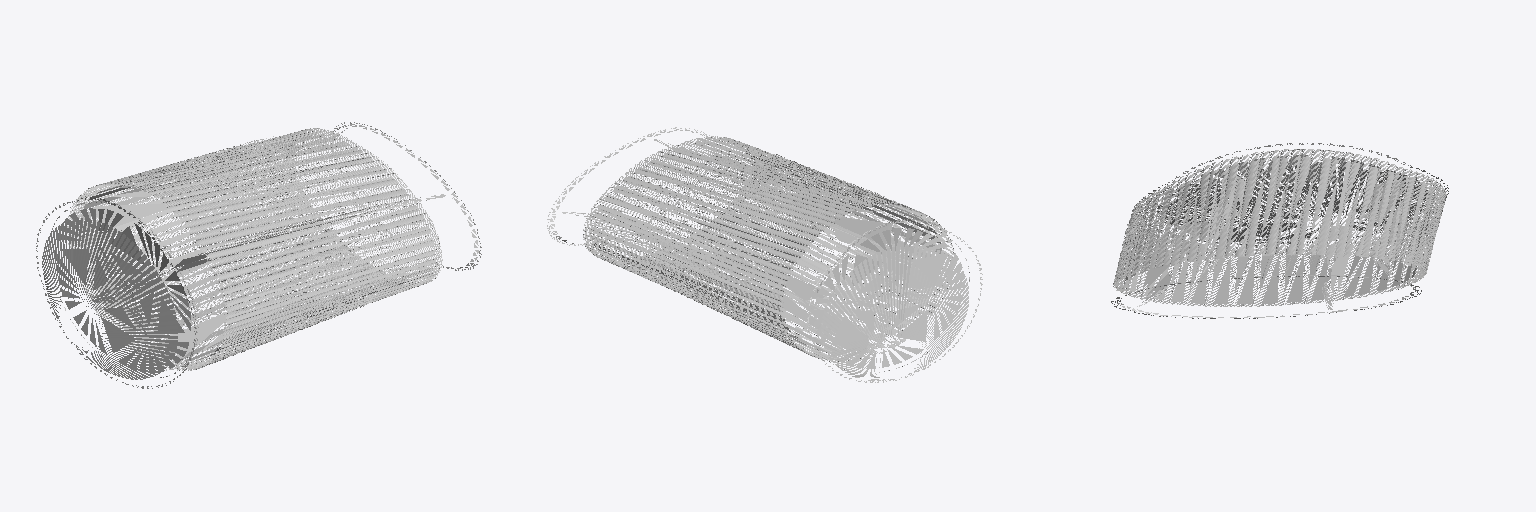
Rendered from bottle_cap_tall.obj.
3 views of the same model, side by side, from view 1: azimuth 30°, elevation 25°; view 2: azimuth 150°, elevation 25°; view 3: azimuth 270°, elevation 25° (orthographic).
Parts seen in each view (by area): view 1: bottle_cap_tall; view 2: bottle_cap_tall; view 3: bottle_cap_tall.
Boxes of the visible parts, x1,y1,x2,y2 form: bottle_cap_tall: [36, 122, 481, 388]; bottle_cap_tall: [547, 127, 982, 382]; bottle_cap_tall: [1111, 143, 1448, 318].
Size of the model in its own units: 0.0369 by 0.015 by 0.033.